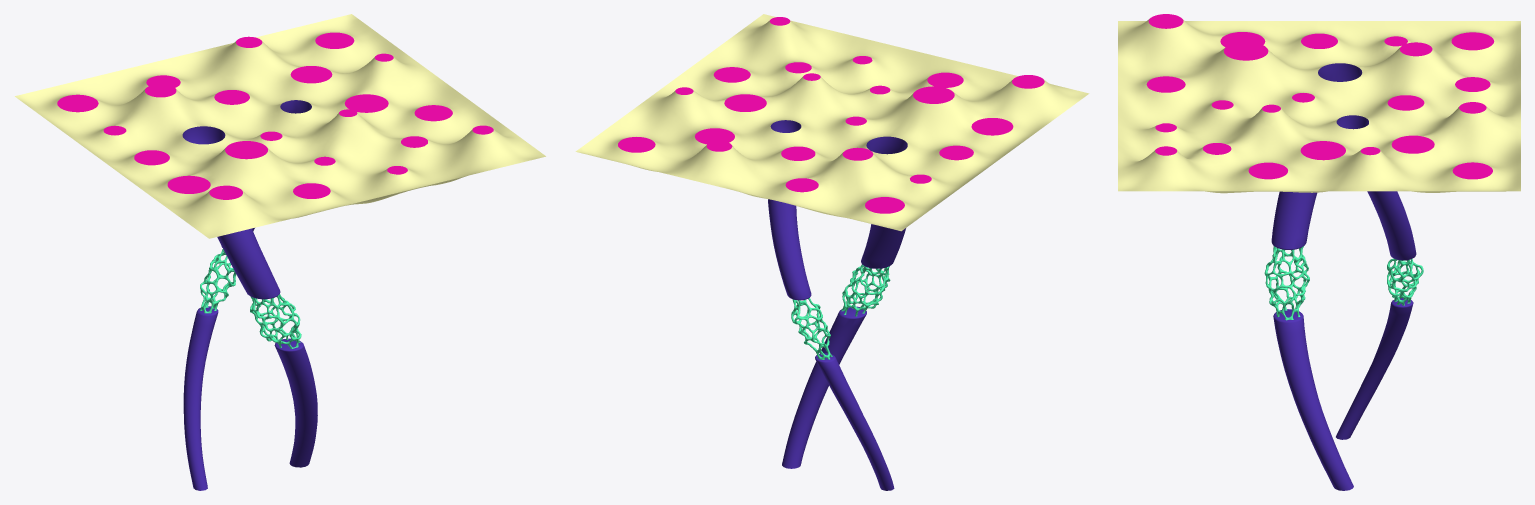
Rendered from Roof_01_columns.fbx.
3 views of the same model, side by side, from view 1: azimuth 30°, elevation 25°; view 2: azimuth 150°, elevation 25°; view 3: azimuth 270°, elevation 25° (orthographic). The views are drawn at different scales.
Visible parts, largest first — view 1: Roof_v1_columns; view 2: Roof_v1_columns; view 3: Roof_v1_columns.
Part boxes in pixels (x1=…): Roof_v1_columns: x1=15, y1=14, x2=545, y2=490; Roof_v1_columns: x1=575, y1=14, x2=1089, y2=490; Roof_v1_columns: x1=1118, y1=14, x2=1520, y2=490.
Size of the model in its own units: 5 by 5.27 by 5.
